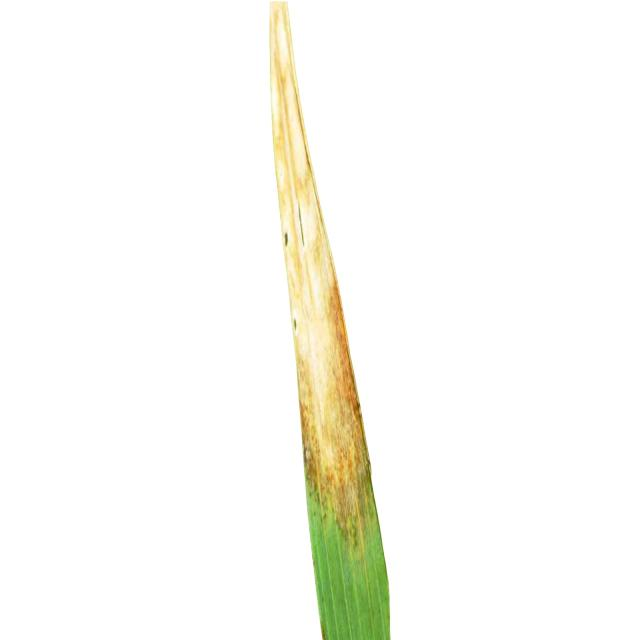Leaf blast: (145, 5, 478, 640)
